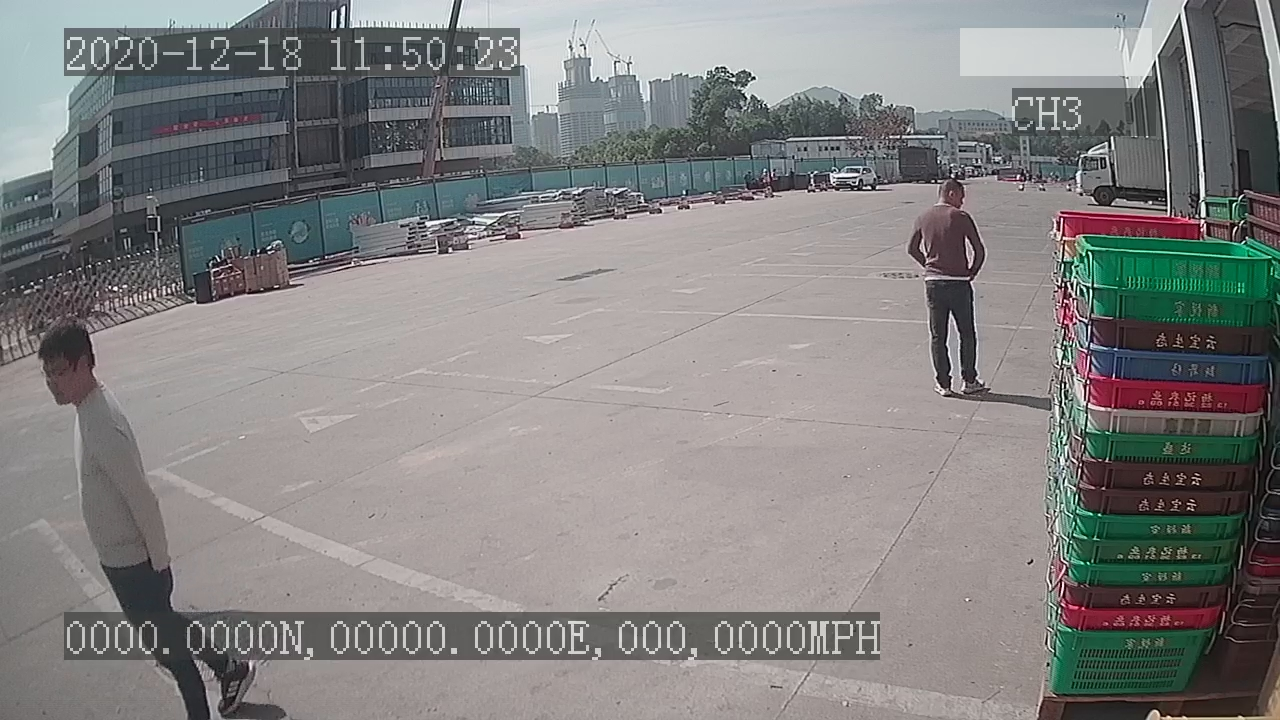person: (902, 174, 992, 403)
